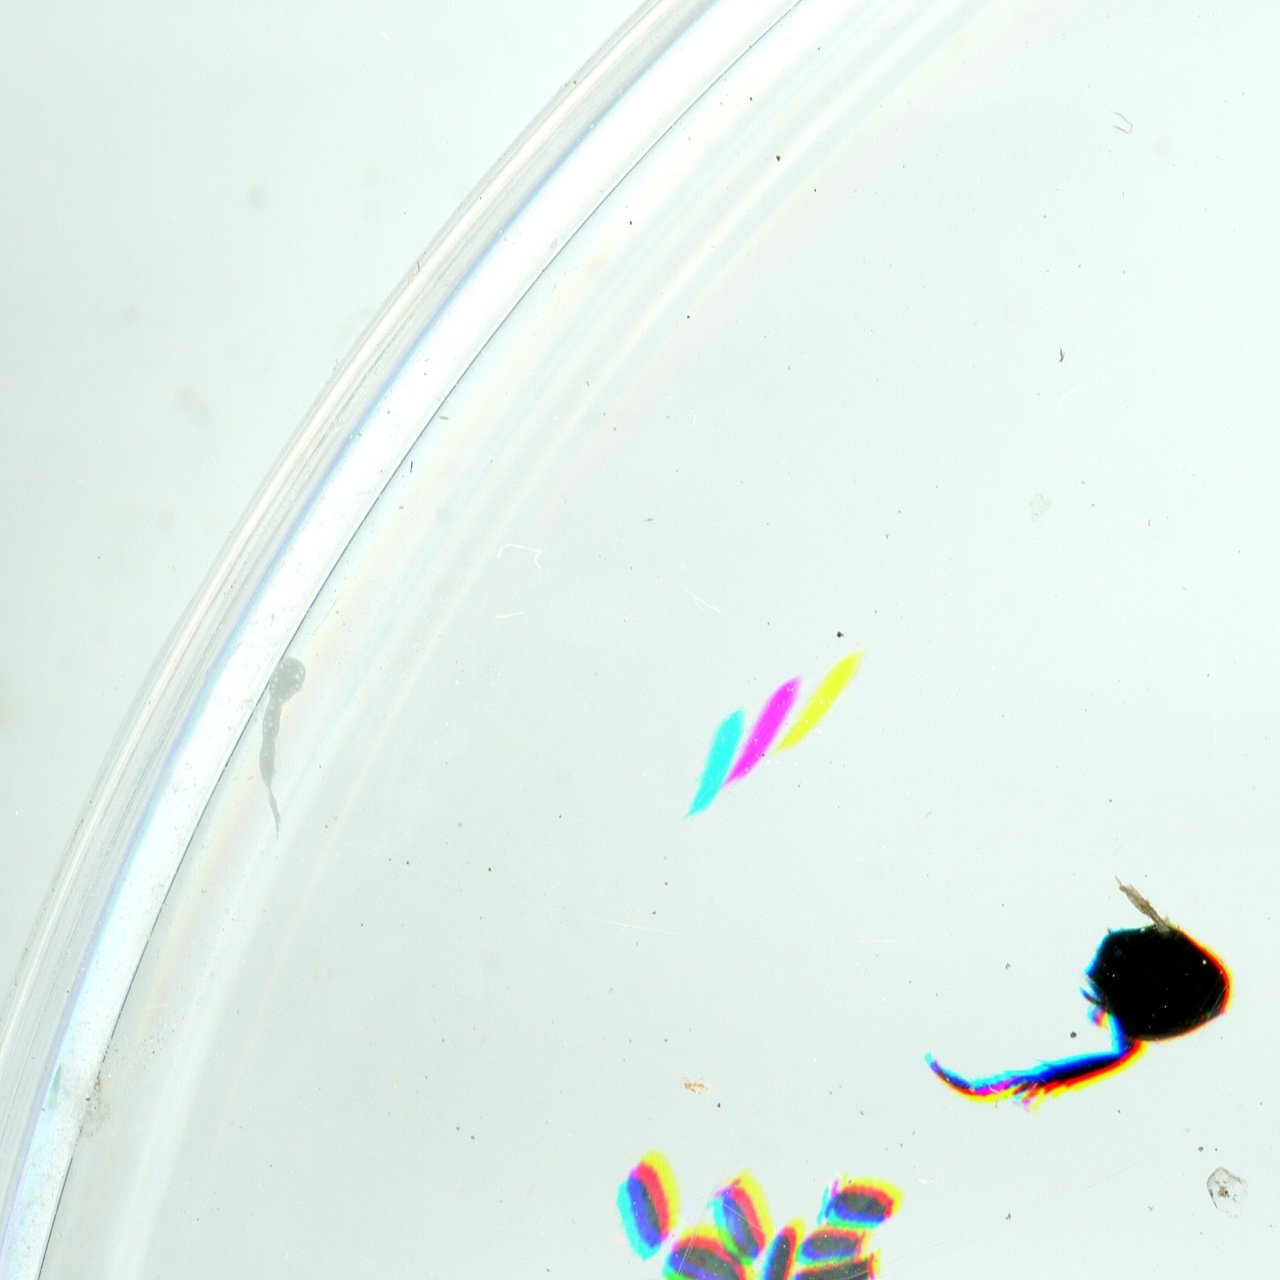arthropod: (607, 1151, 689, 1254), (703, 1171, 777, 1266), (661, 1220, 768, 1280), (821, 1179, 893, 1227), (791, 1254, 881, 1280), (797, 1227, 863, 1262), (765, 1211, 795, 1280), (640, 1267, 744, 1280)
